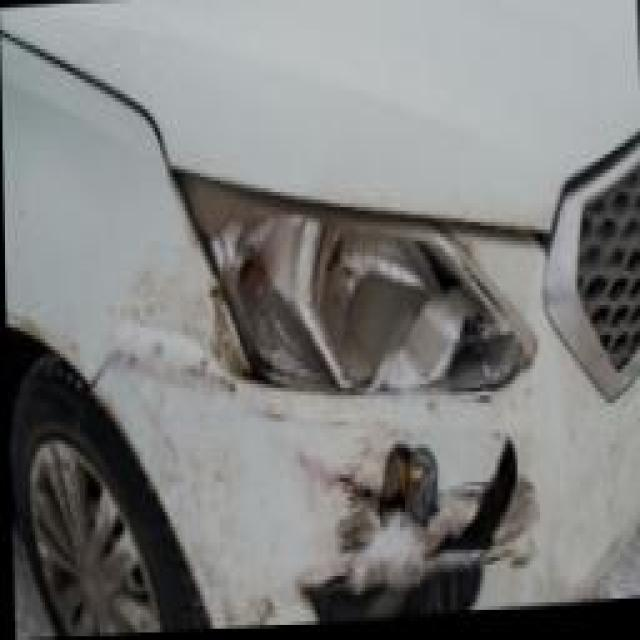Fender: (5, 154, 640, 631)
Light: (161, 167, 543, 409)
